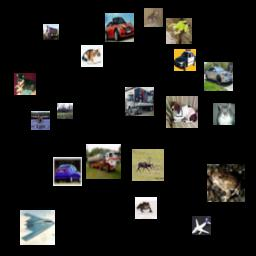airplane: (20, 210, 55, 245), (192, 216, 211, 235), (31, 111, 50, 130)
automobile: (204, 62, 233, 91), (53, 157, 82, 186), (105, 13, 134, 42), (174, 49, 196, 71), (57, 103, 73, 119)
cat: (81, 45, 103, 67), (213, 103, 235, 125)
deer: (132, 149, 164, 181)
dog: (166, 96, 198, 128), (14, 73, 36, 95), (144, 8, 163, 27)
frog: (207, 164, 245, 202), (166, 18, 192, 44), (135, 197, 157, 219)
truck: (86, 144, 121, 179), (125, 87, 154, 116), (43, 24, 59, 40)
